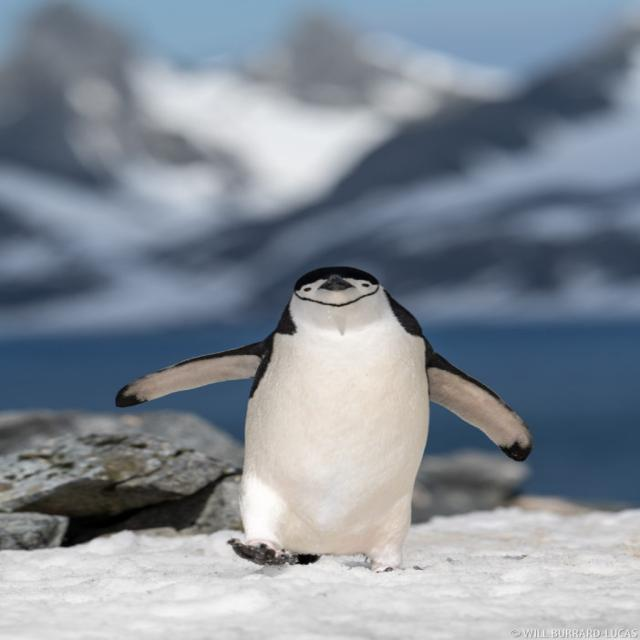Penguins: (201, 241, 479, 578)
